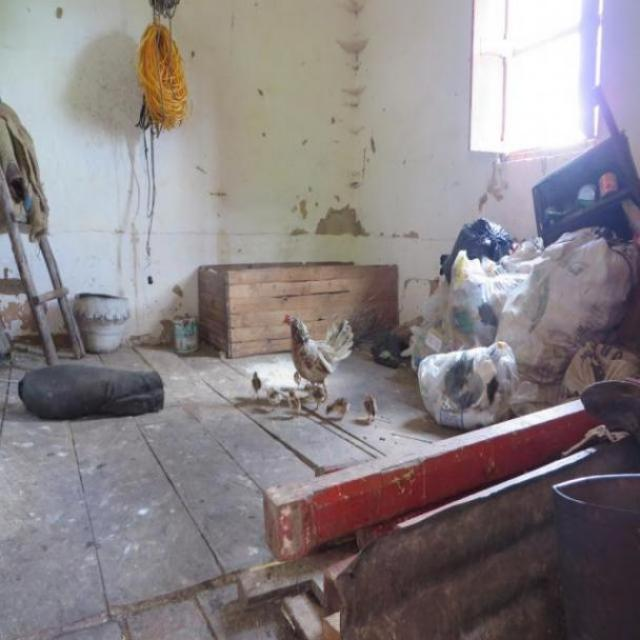Chicken: (274, 307, 355, 404)
